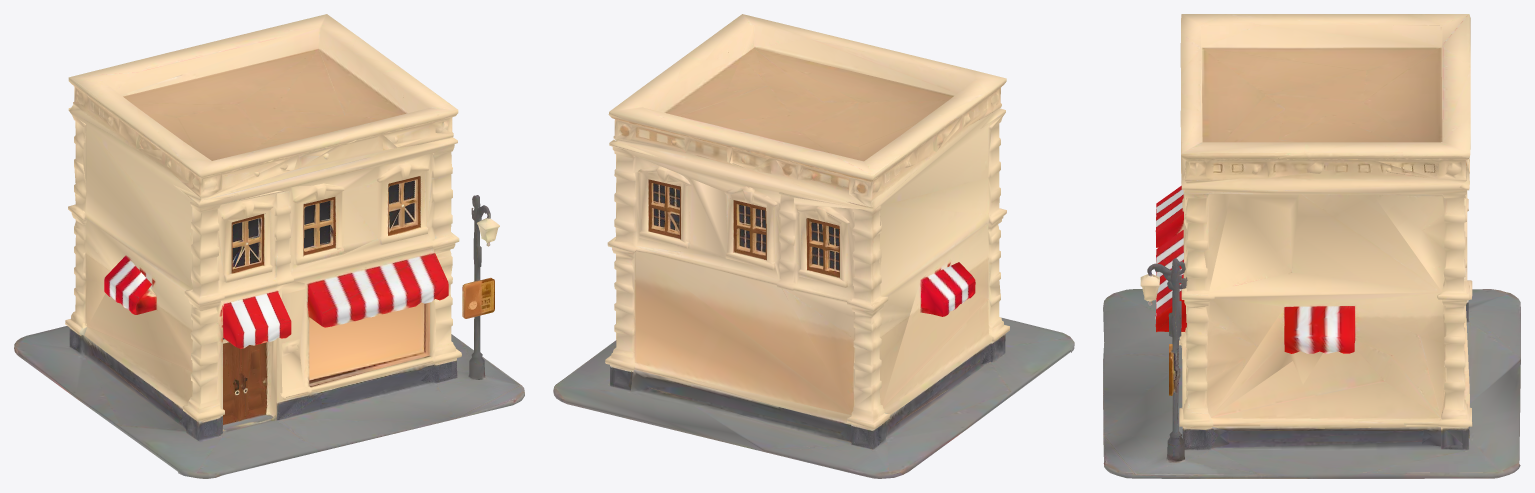
The model's file is shop.glb.
The picture shows the model from 3 angles, left to right: view 1: azimuth 30°, elevation 25°; view 2: azimuth 150°, elevation 25°; view 3: azimuth 270°, elevation 25°; orthographic projection. The views are drawn at different scales.
Bounding box in the file's own units: 1.91 × 1.46 × 1.82.
Materials: 1 (1 with a texture image).
